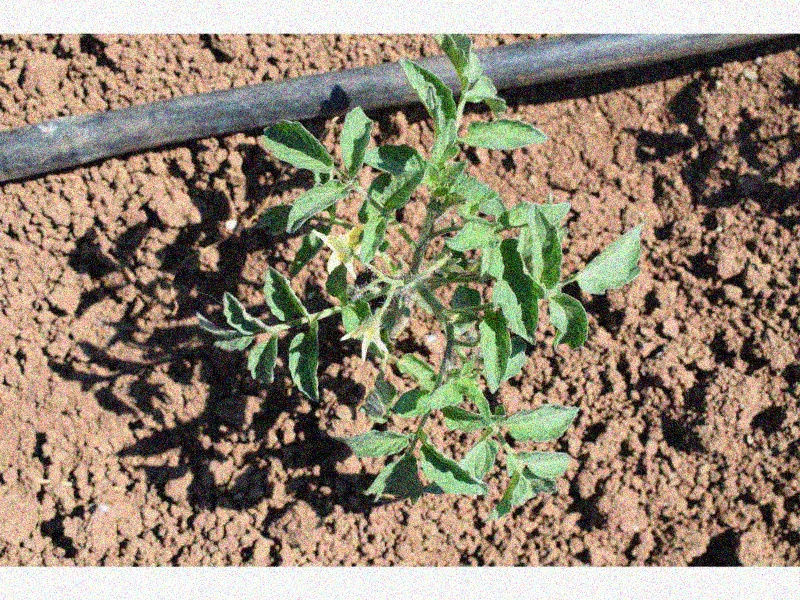tomato: (196, 32, 643, 519)
